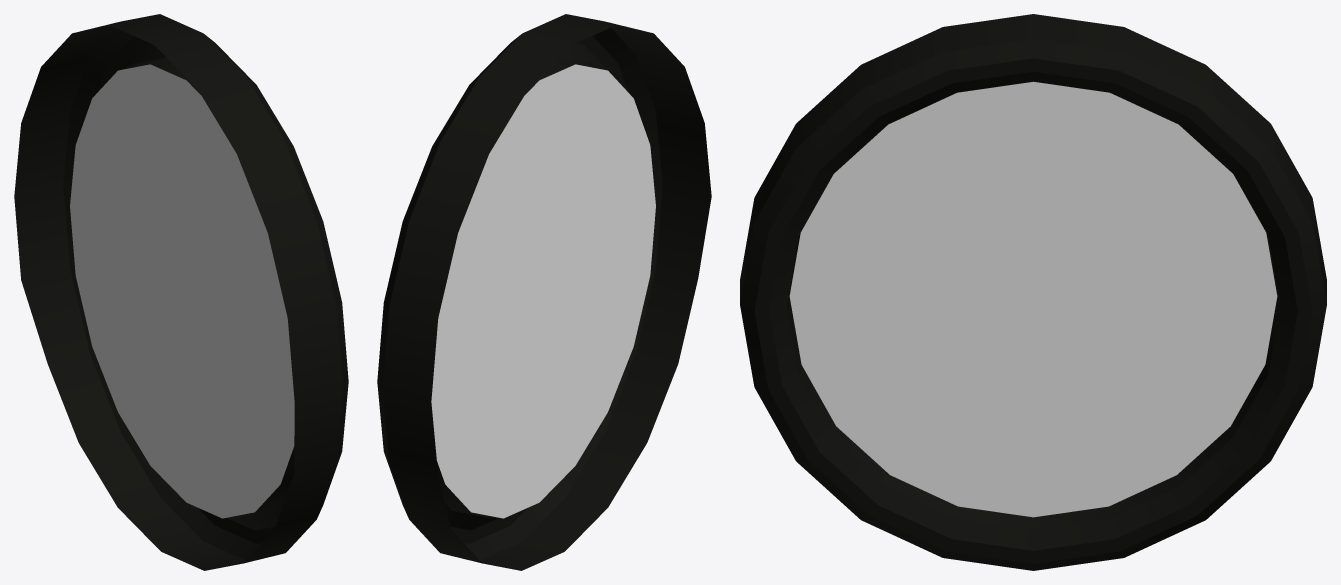
The model's file is Light_Simple.fbx.
The picture shows the model from 3 angles, left to right: view 1: azimuth 30°, elevation 25°; view 2: azimuth 150°, elevation 25°; view 3: azimuth 270°, elevation 25°; orthographic projection. The views are drawn at different scales.
Parts seen in each view (by area): view 1: pCylinder3; view 2: pCylinder3; view 3: pCylinder3.
Part boxes in pixels (x1,y1,x2,y2): pCylinder3: (14,14,348,570); pCylinder3: (377,14,711,570); pCylinder3: (740,14,1326,570).
Bounding box in the file's own units: 19.86 × 157 × 157.
